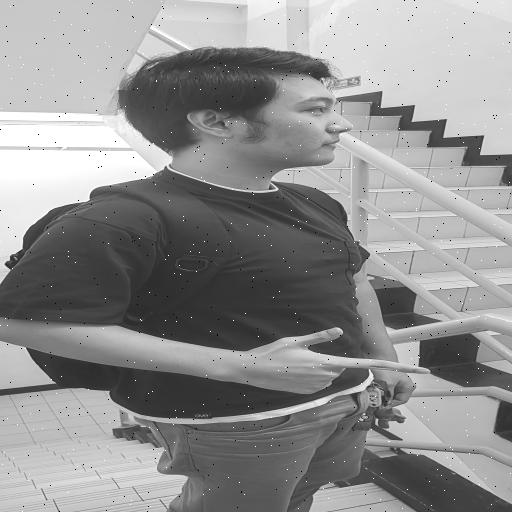next: (225, 323, 443, 405)
